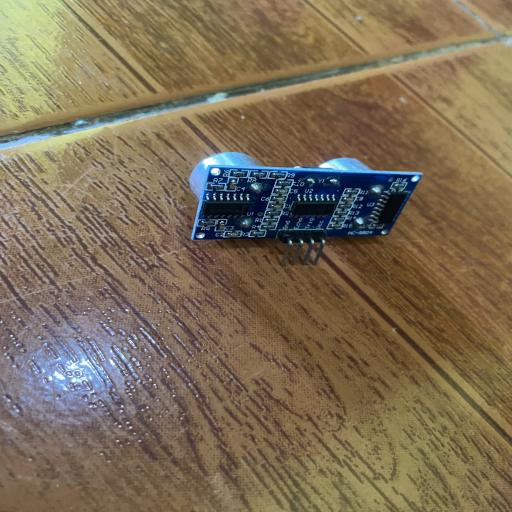Ultrasonic Sensor: (189, 150, 422, 266)
